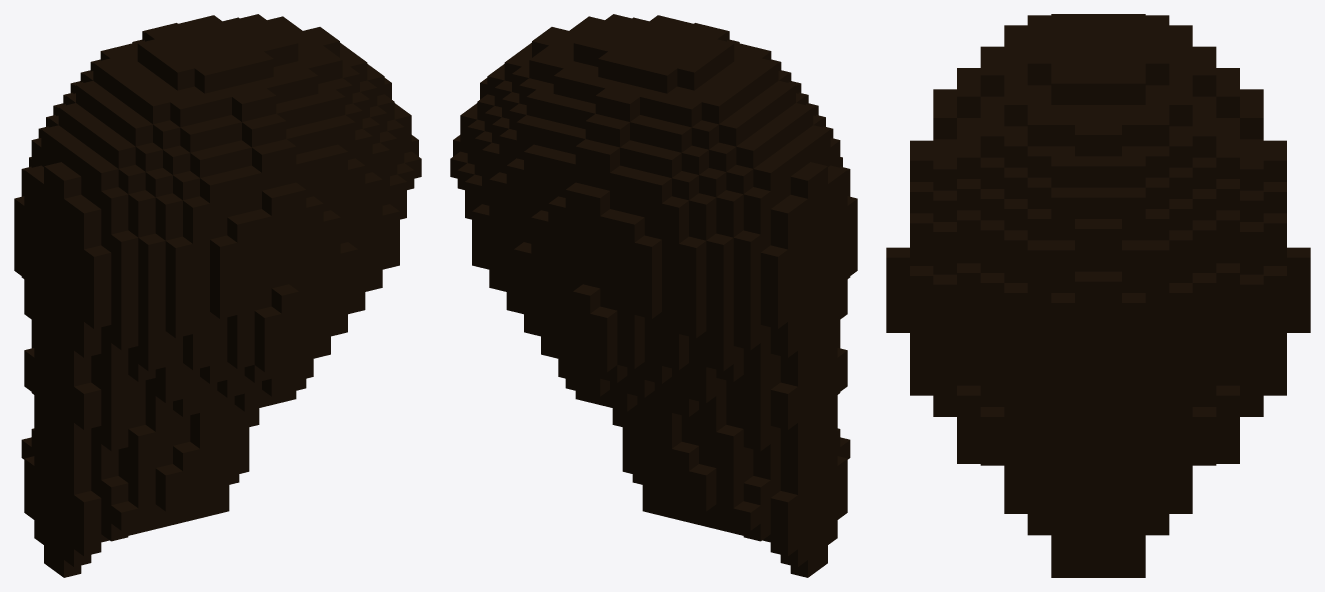
Rendered from Female_Hair1.obj.
3 renders of one model, left to right at view 1: azimuth 30°, elevation 25°; view 2: azimuth 150°, elevation 25°; view 3: azimuth 270°, elevation 25°, orthographic. The views are drawn at different scales.
Parts seen in each view (by area): view 1: Female_Hair1; view 2: Female_Hair1; view 3: Female_Hair1.
Boxes of the visible parts, left/top/right/bottom form: Female_Hair1: left=14, top=14, right=421, bottom=577; Female_Hair1: left=450, top=14, right=857, bottom=577; Female_Hair1: left=886, top=14, right=1310, bottom=577.
Bounding box in the file's own units: 20 × 27 × 18.
